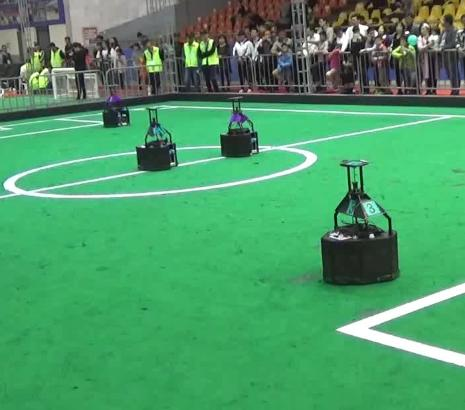robot: (316, 155, 403, 287), (135, 101, 184, 173), (212, 96, 267, 159), (99, 82, 136, 129)
